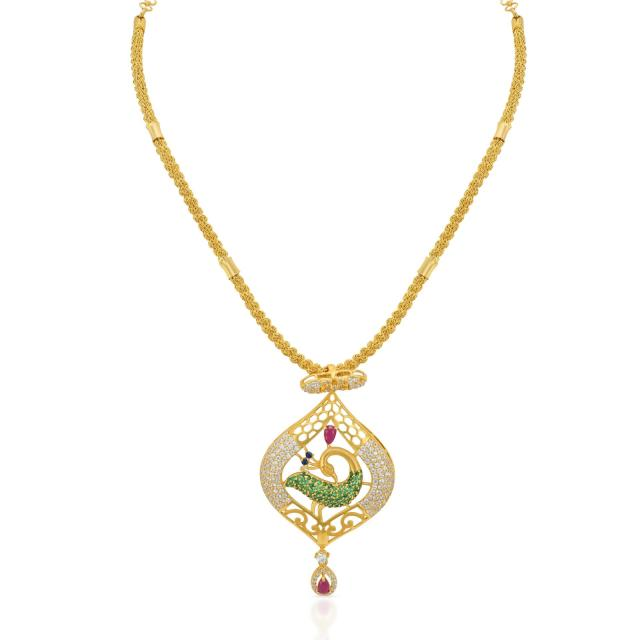missing gem: (324, 467, 333, 475)
